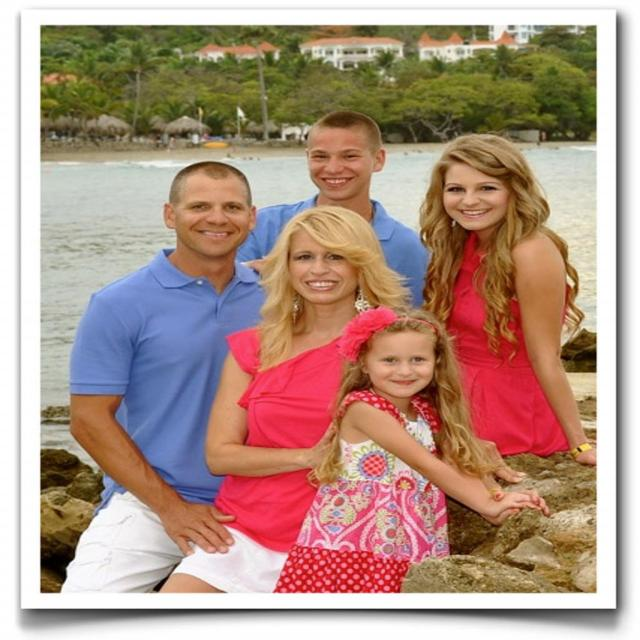nomask: (177, 173, 251, 257), (289, 228, 357, 303), (367, 330, 435, 395), (443, 164, 511, 228), (307, 132, 369, 200)
